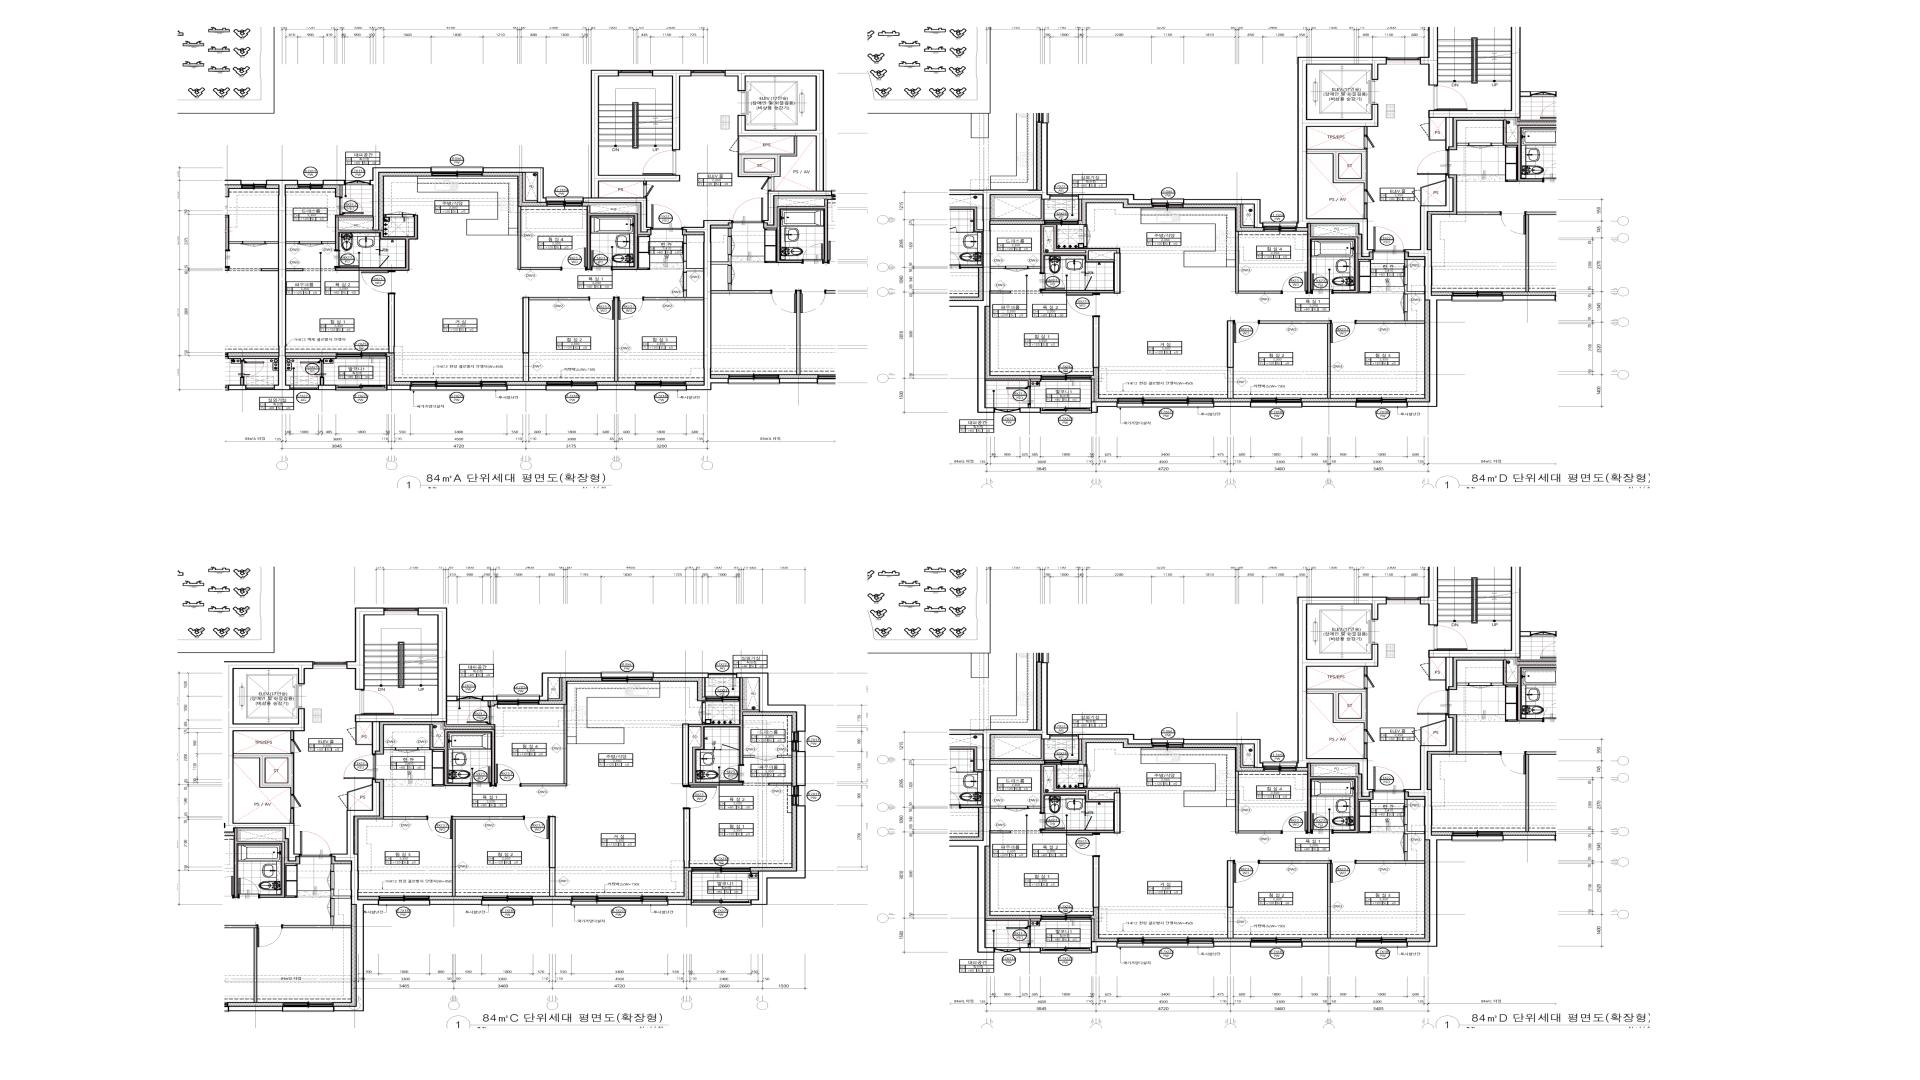door: (359, 689, 394, 714), (1434, 625, 1468, 650), (652, 202, 682, 230), (1373, 766, 1404, 793), (642, 151, 676, 175), (1434, 86, 1468, 110), (1373, 227, 1404, 253), (361, 271, 396, 294), (683, 786, 717, 809), (344, 755, 376, 779), (1067, 834, 1100, 857), (1067, 294, 1100, 317), (1233, 860, 1260, 883), (1233, 320, 1260, 343), (495, 764, 521, 787), (1281, 811, 1307, 834), (1331, 860, 1357, 883), (618, 297, 644, 320), (1331, 320, 1357, 343), (524, 816, 549, 839), (427, 816, 452, 839), (589, 297, 614, 320), (1281, 272, 1307, 294), (562, 248, 586, 271), (1039, 273, 1066, 291), (1006, 926, 1031, 945), (719, 764, 744, 783), (469, 766, 491, 787), (1311, 813, 1333, 834), (1311, 273, 1333, 294), (1039, 813, 1066, 830), (1006, 387, 1031, 405), (591, 250, 612, 271), (466, 707, 491, 724), (339, 198, 364, 215), (334, 250, 359, 267), (300, 361, 323, 377), (643, 181, 654, 198), (698, 701, 706, 724), (729, 136, 739, 154), (1084, 765, 1091, 788), (1084, 225, 1091, 248), (1364, 675, 1375, 689), (1364, 135, 1375, 149), (1364, 190, 1375, 204), (290, 740, 301, 753), (1364, 730, 1375, 743), (761, 177, 771, 191), (395, 747, 418, 753), (299, 241, 322, 247), (1006, 806, 1028, 812), (755, 755, 777, 761), (379, 255, 390, 267), (1006, 266, 1028, 272), (720, 744, 739, 750), (1085, 815, 1092, 830), (1085, 275, 1092, 290)
wall: (1298, 597, 1387, 797), (1298, 57, 1387, 257), (224, 662, 313, 861), (725, 70, 832, 226), (977, 730, 1051, 953), (977, 190, 1051, 413), (583, 70, 680, 233), (354, 608, 457, 755), (1428, 543, 1521, 690), (1428, 3, 1521, 150), (1404, 715, 1454, 947), (1404, 175, 1454, 407), (682, 220, 733, 390), (689, 678, 759, 786), (266, 180, 298, 390), (331, 779, 380, 905), (452, 816, 523, 896), (523, 297, 590, 381), (1260, 860, 1331, 938), (1260, 321, 1331, 398), (751, 806, 806, 905), (335, 215, 418, 271), (736, 673, 806, 732), (430, 725, 495, 786), (369, 168, 432, 230), (1040, 765, 1120, 812), (1040, 225, 1120, 272), (521, 705, 567, 786), (1307, 224, 1358, 294), (1307, 764, 1358, 833), (586, 206, 638, 270), (652, 70, 692, 150), (1420, 3, 1458, 86), (1420, 543, 1458, 625), (346, 608, 384, 690), (1235, 772, 1281, 834), (1235, 232, 1281, 294), (518, 207, 561, 270), (234, 753, 294, 795), (1308, 689, 1368, 730), (1308, 149, 1368, 190), (1183, 739, 1264, 768), (1183, 199, 1264, 228), (482, 168, 546, 203), (539, 673, 602, 701), (991, 740, 1045, 761), (991, 200, 1045, 221), (1042, 767, 1085, 793), (1042, 227, 1085, 253), (1356, 852, 1425, 864), (1356, 312, 1425, 324), (1078, 734, 1153, 745), (1078, 194, 1153, 205), (1421, 720, 1446, 745), (1421, 180, 1446, 205), (265, 758, 288, 783), (1227, 860, 1234, 938), (644, 291, 704, 300), (1227, 321, 1234, 398), (1339, 694, 1361, 718), (1339, 154, 1361, 178), (549, 817, 555, 897), (522, 173, 537, 203), (388, 294, 395, 353), (1092, 857, 1100, 908), (1092, 317, 1100, 368), (1429, 658, 1445, 681), (1429, 118, 1445, 141), (444, 722, 494, 729), (796, 751, 806, 786), (684, 809, 690, 867), (1301, 941, 1357, 947), (614, 297, 618, 381), (1240, 745, 1254, 768), (1240, 205, 1254, 228), (986, 919, 1031, 926), (986, 379, 1031, 386), (1091, 941, 1117, 953), (549, 678, 562, 701), (1040, 290, 1114, 294), (1114, 253, 1121, 294), (1091, 402, 1117, 413), (1114, 793, 1121, 833), (653, 673, 709, 678), (1301, 402, 1357, 407), (429, 900, 482, 905), (286, 356, 337, 361), (683, 261, 703, 273), (1040, 830, 1114, 833), (506, 385, 547, 390), (532, 900, 572, 905), (597, 385, 636, 390), (1213, 942, 1251, 947), (1213, 402, 1251, 407), (1404, 825, 1424, 834), (1404, 285, 1424, 294), (1019, 947, 1041, 953), (1019, 407, 1041, 413), (384, 816, 427, 819), (386, 385, 411, 390), (668, 900, 692, 905), (689, 871, 693, 900), (386, 356, 390, 385), (323, 180, 346, 185), (335, 215, 372, 218), (318, 385, 336, 390), (1078, 739, 1082, 761), (1091, 919, 1095, 941), (1078, 199, 1082, 221), (1091, 379, 1095, 401), (991, 830, 1011, 834), (702, 678, 706, 697), (482, 696, 497, 701), (768, 783, 792, 786), (1364, 743, 1368, 758), (290, 808, 294, 823), (1364, 204, 1368, 219), (991, 291, 1011, 294), (286, 268, 303, 271), (991, 806, 1006, 809), (777, 755, 792, 758), (991, 266, 1006, 269), (286, 241, 299, 244), (322, 241, 335, 244), (1028, 806, 1040, 809), (290, 731, 294, 740), (383, 747, 395, 750), (743, 755, 755, 758), (1404, 259, 1408, 268), (1028, 266, 1040, 269), (683, 235, 687, 244), (418, 747, 429, 750), (1364, 667, 1368, 675), (1404, 799, 1408, 807), (1364, 127, 1368, 135), (320, 377, 324, 385), (1031, 919, 1041, 922), (1031, 379, 1041, 382), (340, 185, 342, 198), (751, 871, 758, 874), (488, 701, 491, 706), (1028, 945, 1031, 947), (1028, 405, 1031, 407)
window: (1117, 937, 1213, 948), (572, 896, 668, 906), (411, 381, 507, 391), (1117, 398, 1213, 408), (601, 671, 653, 681), (378, 896, 429, 906), (482, 896, 533, 906), (1251, 938, 1302, 948), (1251, 398, 1302, 408), (1357, 938, 1407, 948), (432, 167, 482, 177), (636, 381, 686, 391), (1357, 398, 1407, 408), (547, 382, 597, 391), (691, 899, 751, 906), (497, 695, 539, 705), (547, 197, 583, 207), (1041, 947, 1091, 954), (1041, 915, 1091, 922), (1041, 375, 1091, 382), (692, 868, 750, 874), (337, 352, 386, 359), (1263, 222, 1297, 232), (1152, 738, 1183, 748), (1152, 198, 1183, 208), (1263, 762, 1297, 771), (336, 385, 386, 391), (1041, 408, 1091, 414), (791, 786, 805, 805), (313, 661, 346, 669), (792, 732, 805, 751), (384, 608, 417, 615), (1458, 543, 1491, 550), (1387, 597, 1420, 604), (1458, 3, 1491, 10), (1387, 57, 1420, 64), (298, 180, 323, 189), (706, 696, 739, 702), (1045, 760, 1078, 765), (1045, 220, 1078, 225), (1051, 194, 1078, 200), (290, 385, 318, 390), (709, 673, 736, 678), (1051, 734, 1078, 739), (458, 696, 482, 701), (995, 947, 1019, 952), (995, 408, 1019, 413), (346, 180, 369, 185)
